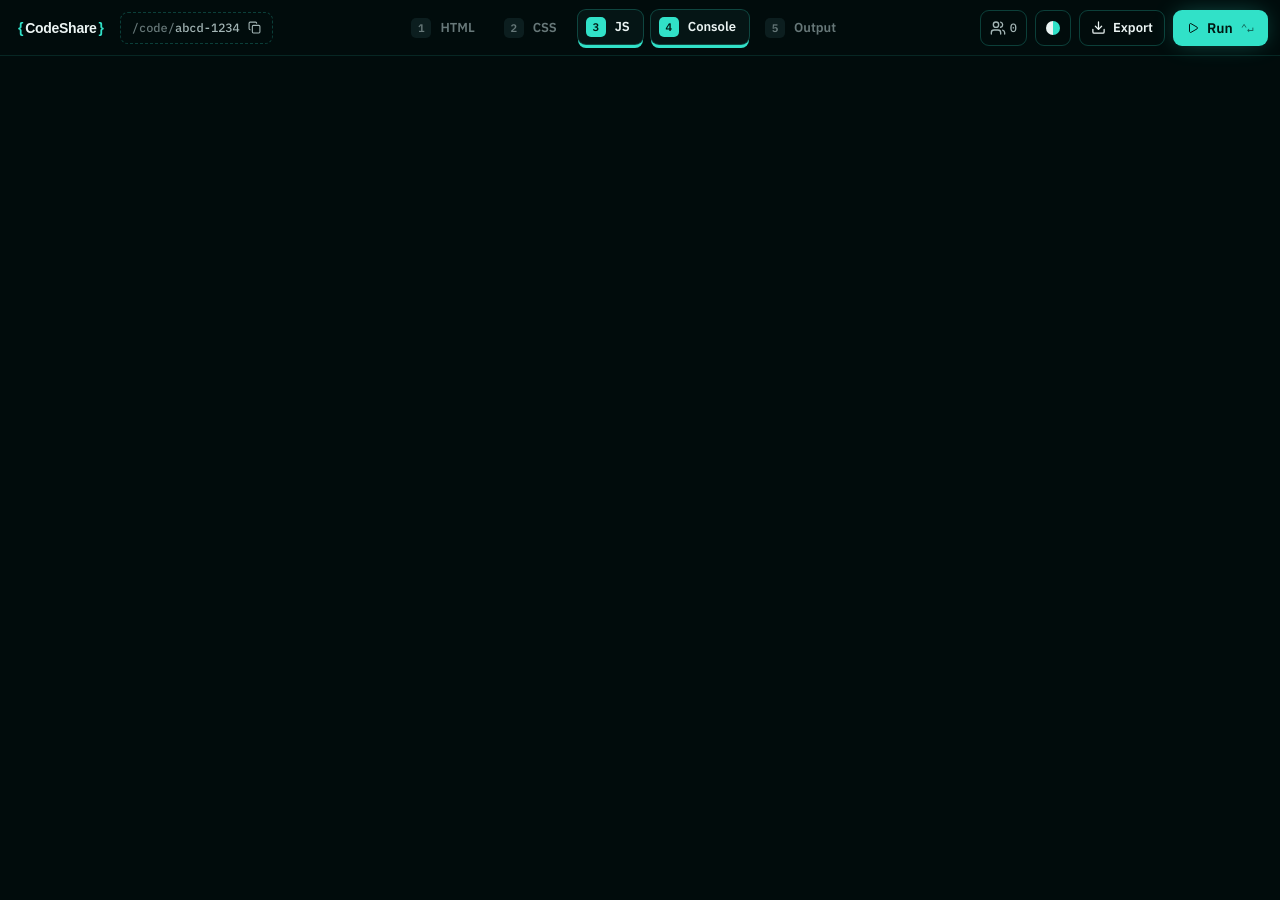
shows a toast naming the exported file
Click the button "Export": point(1122, 28) [1079,10,1165,46]
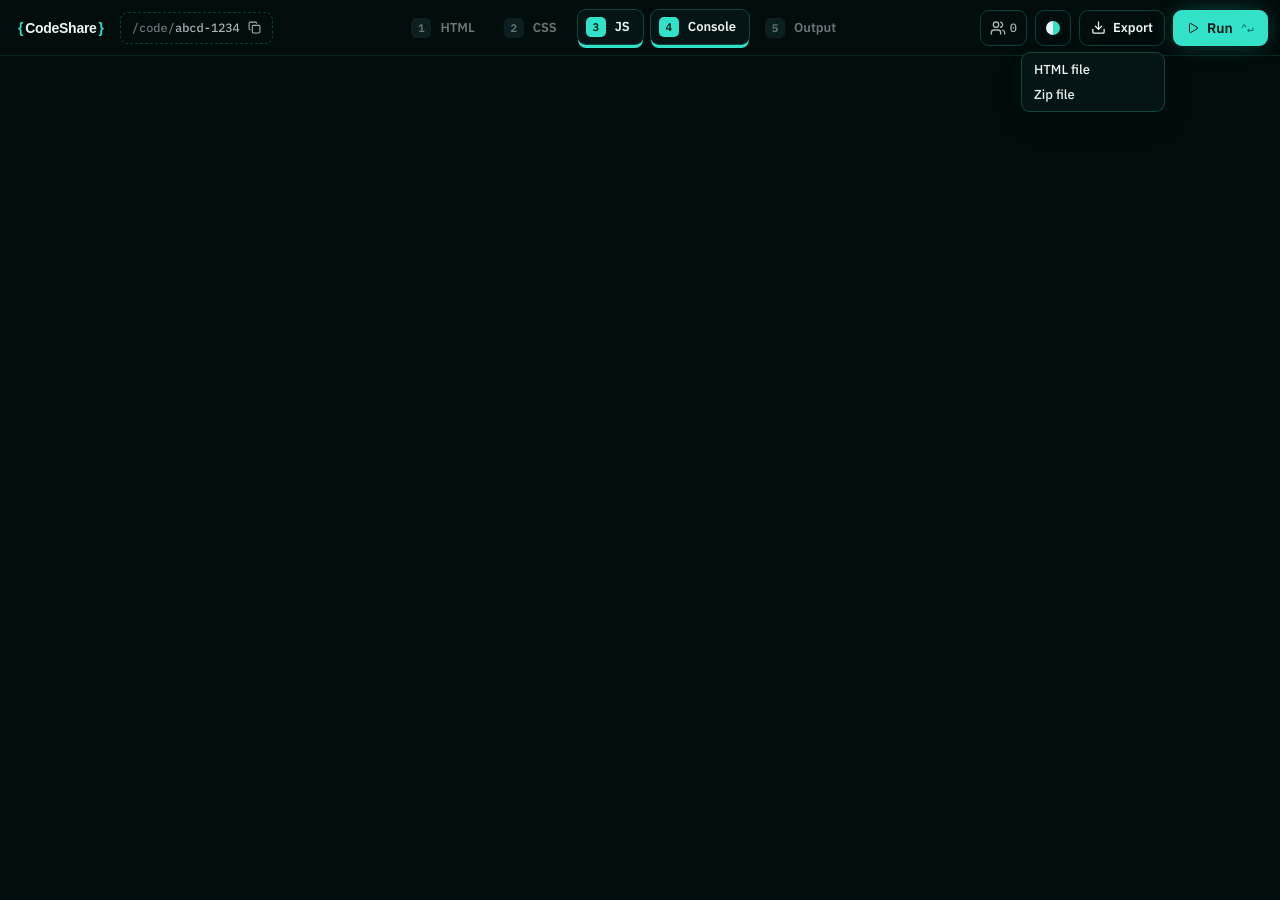
Click the menu item "HTML file": point(1062, 70) [1034,61,1090,78]
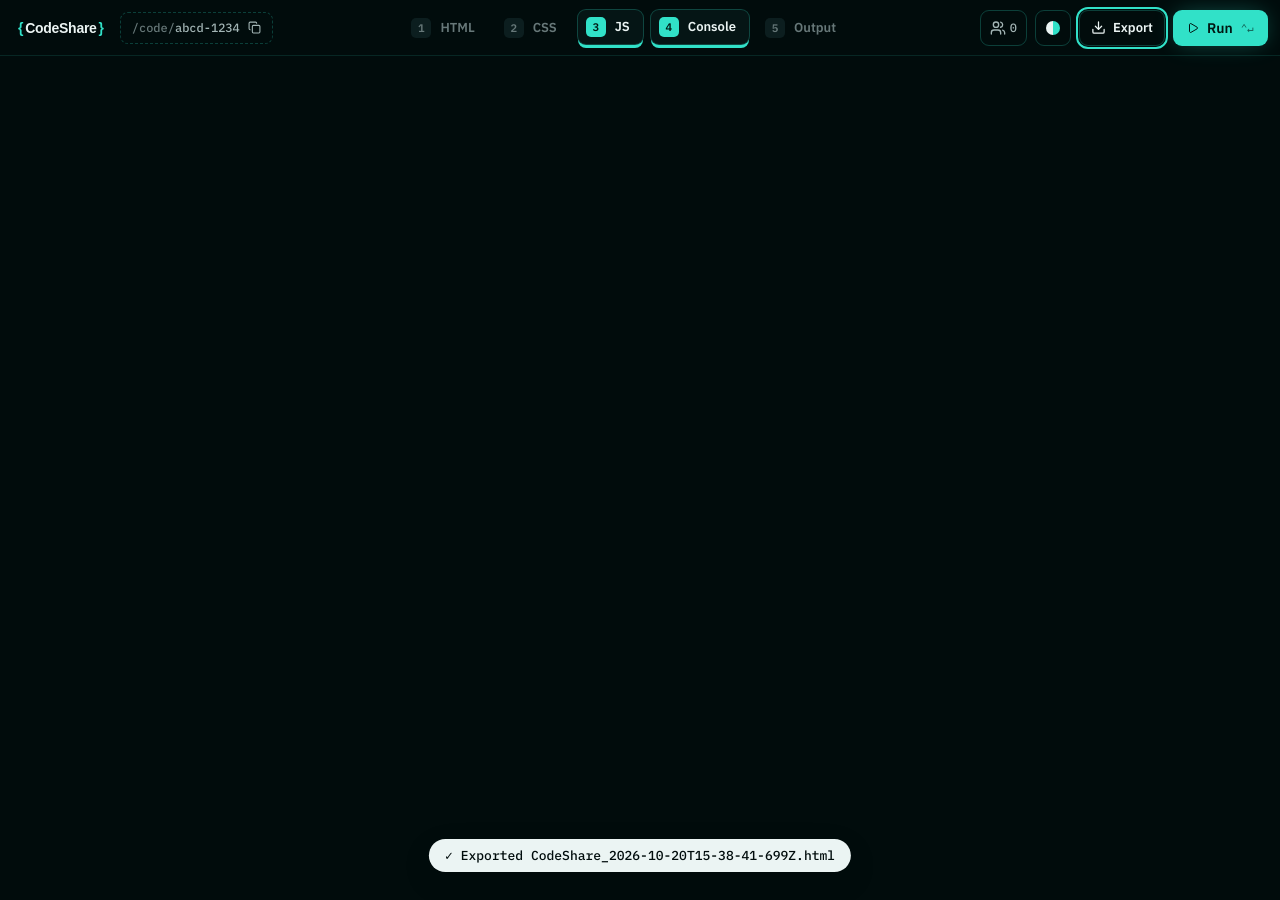
Check: the text "Exported CodeShare_2026-10-20T15-38-41-699Z.html" is shown, box [461,847,835,864]
